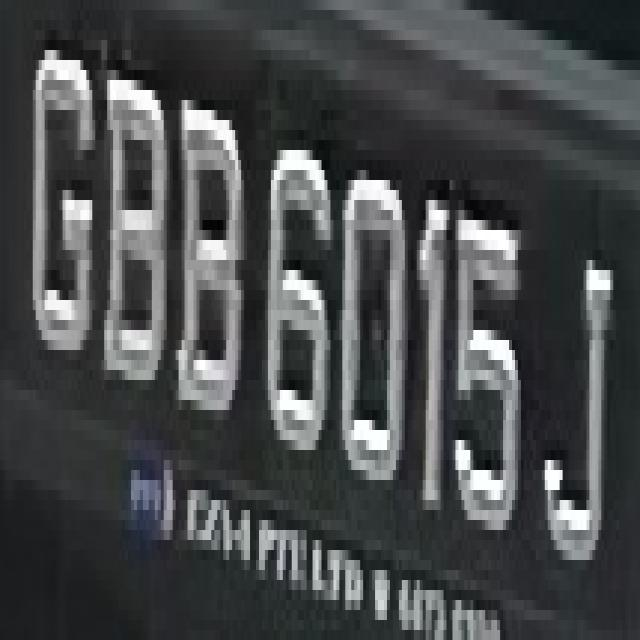0: (333, 140, 408, 520)
1: (417, 170, 449, 590)
5: (443, 170, 521, 570)
6: (265, 120, 333, 480)
B: (179, 70, 247, 470), (95, 60, 167, 430)
G: (27, 10, 104, 360)
J: (536, 210, 616, 560)
